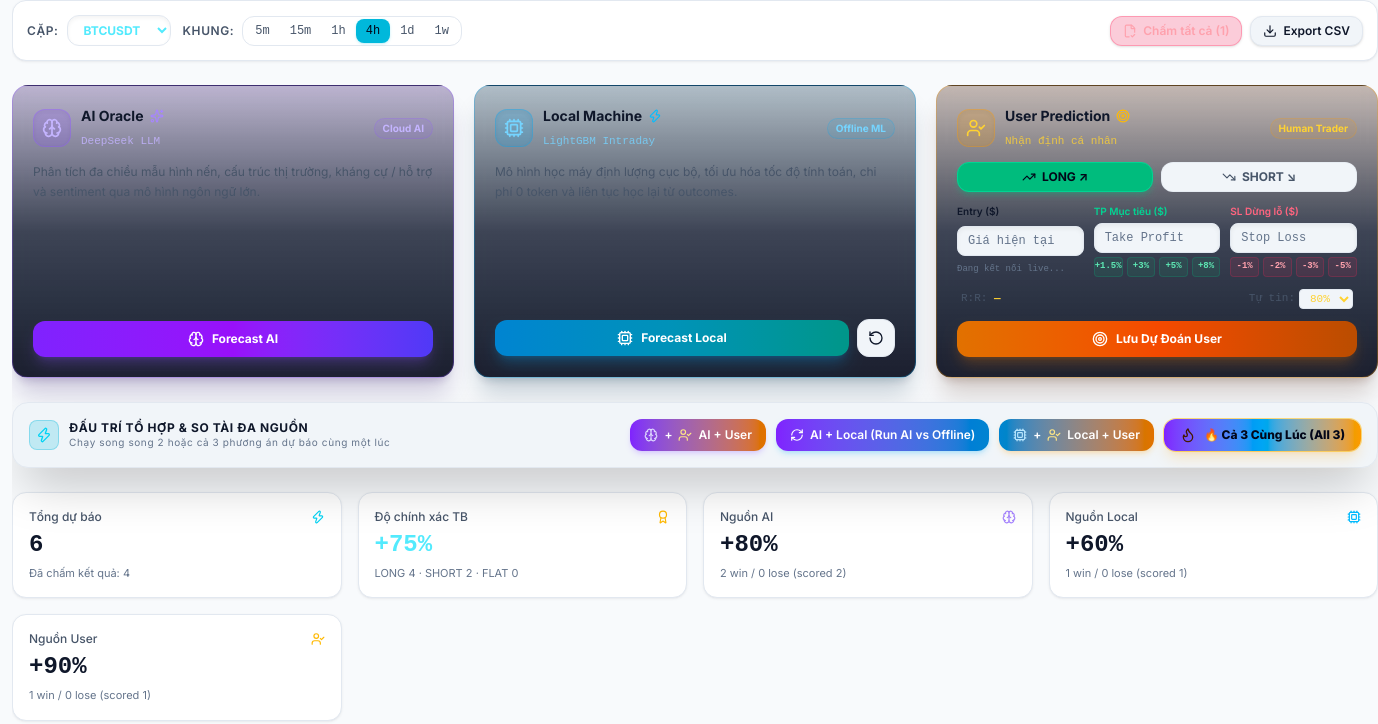
Test: ForecastCompare UI and 3-Cluster Command Deck › runs AI forecast when clicking "Forecast AI"
Step 1. Click the button "Forecast AI" → (233, 338), box x1=33 y1=320 x2=433 y2=356
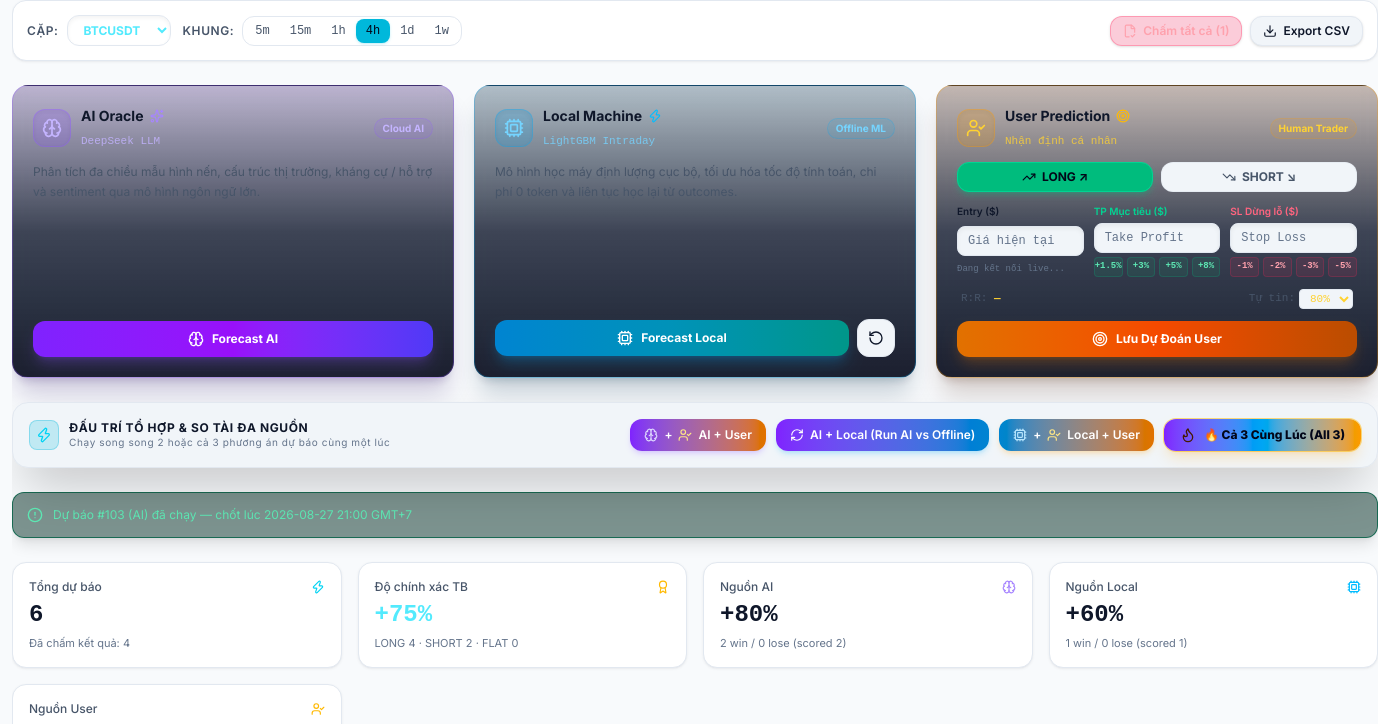
Result: the text "Dự báo #103 (AI) đã chạy — chốt lúc 2026-08-27 21:00 GMT+7" is shown at x1=53 y1=506 x2=412 y2=522
